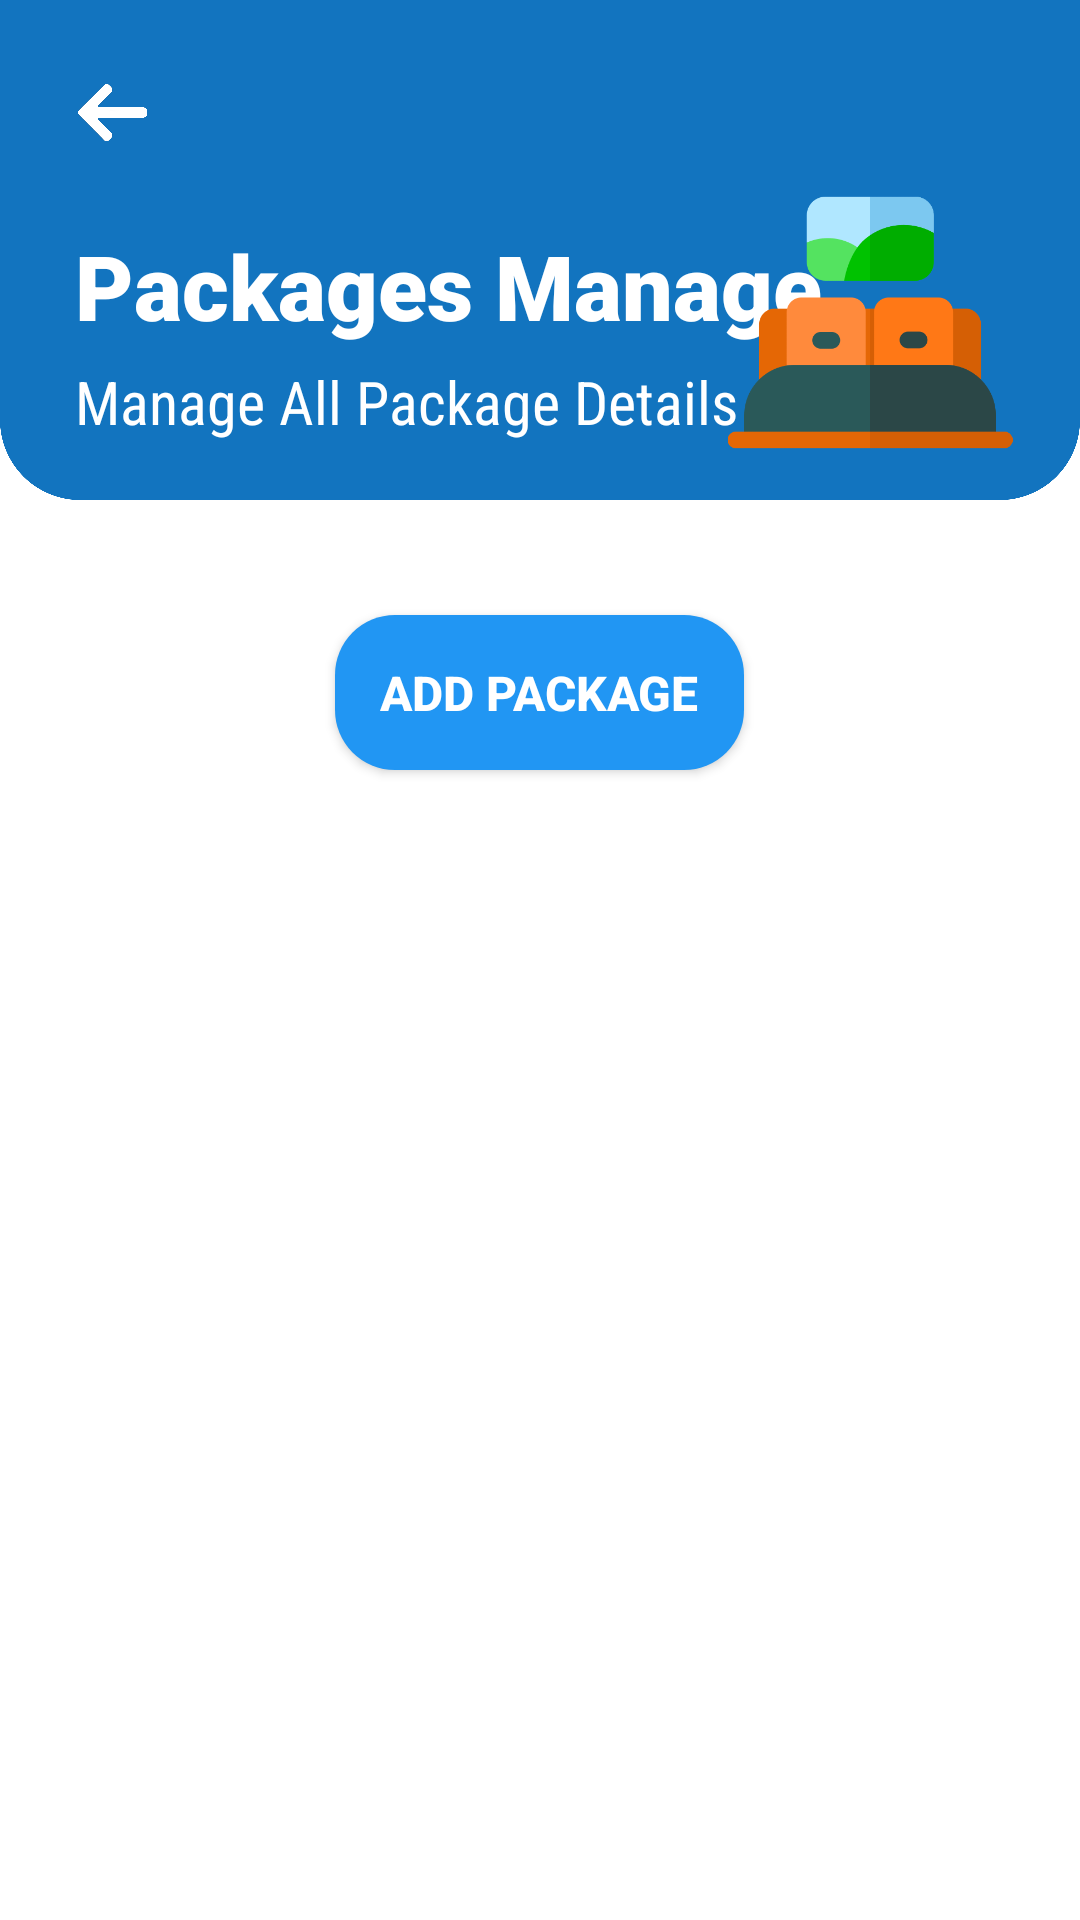

Icon bounding boxes for this 1080px x 1920px phone screenshot, format (x1, y1, x2, y2):
back: (78, 84, 147, 141)
bed: (723, 197, 1013, 449)
